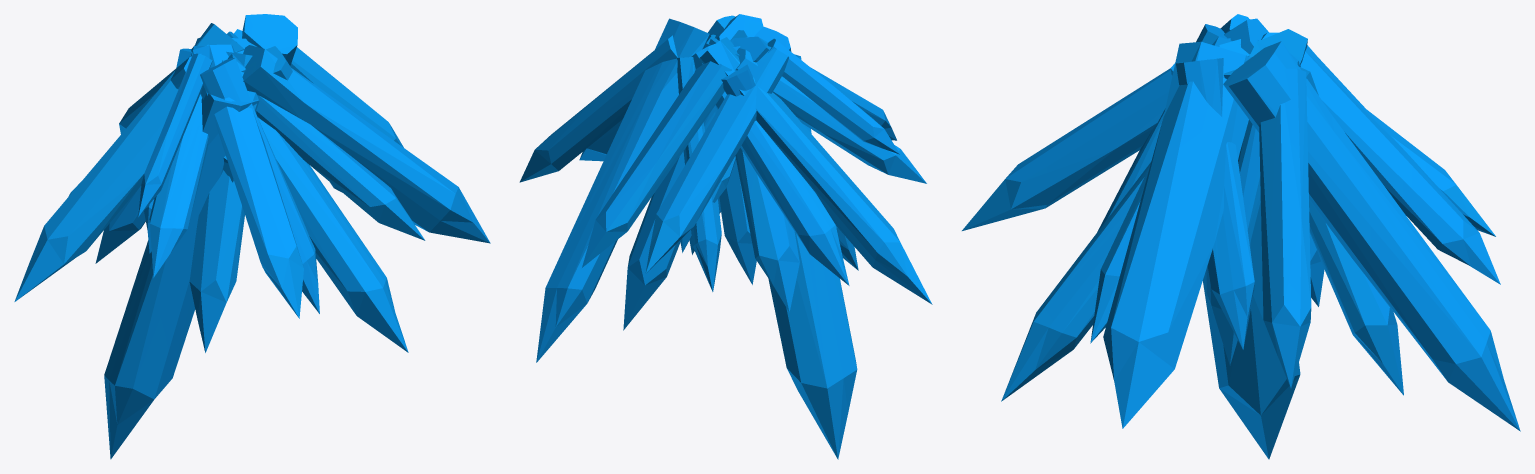
Rendered from sp_crystal02.glb.
The picture shows the model from 3 angles, left to right: view 1: azimuth 30°, elevation 25°; view 2: azimuth 150°, elevation 25°; view 3: azimuth 270°, elevation 25°; orthographic projection. The views are drawn at different scales.
Visible parts, largest first — view 1: SP_Crystal02; view 2: SP_Crystal02; view 3: SP_Crystal02.
Boxes of the visible parts, x1,y1,x2,y2 form: SP_Crystal02: (14,14,490,459); SP_Crystal02: (519,14,932,459); SP_Crystal02: (962,14,1520,459).
Bounding box in the file's own units: 173 × 162 × 163.
Materials: 1 (1 with a texture image).
